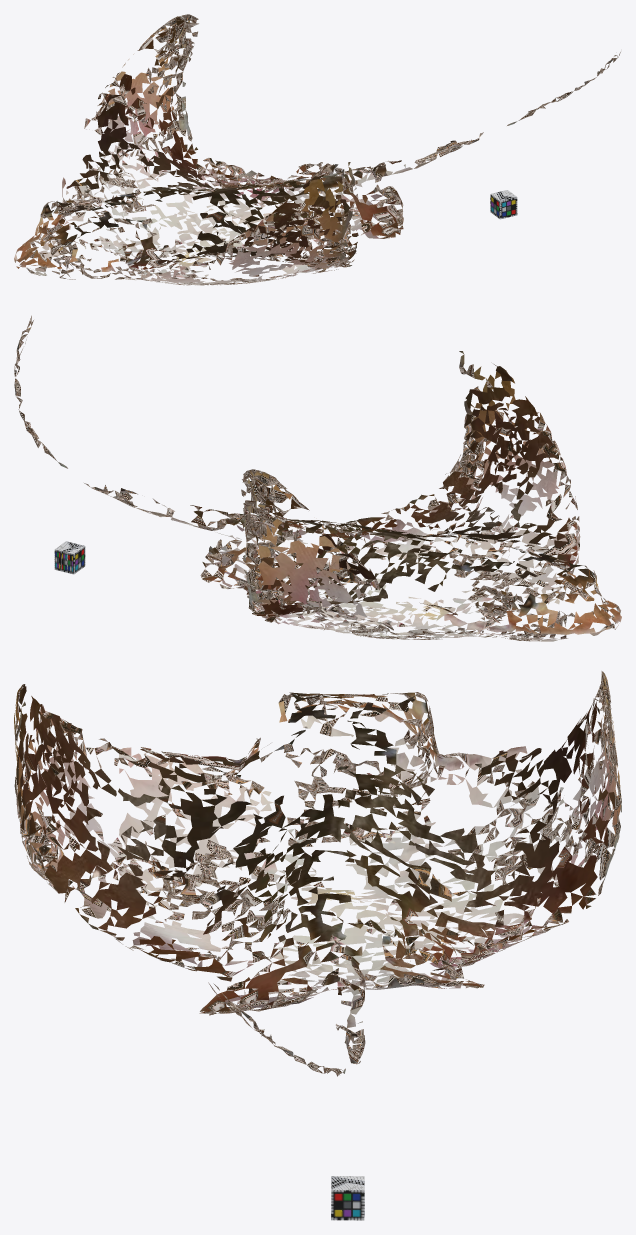
Rendered from ray.glb.
3 renders of one model, top to bottom at view 1: azimuth 30°, elevation 25°; view 2: azimuth 150°, elevation 25°; view 3: azimuth 270°, elevation 25°, orthographic. The views are drawn at different scales.
Parts seen in each view (by area): view 1: Object_6, Object_12, Object_4; view 2: Object_6, Object_12, Object_4; view 3: Object_6, Object_12, Object_4.
Boxes of the visible parts, x1,y1,x2,y2 form: Object_6: (66,53,388,285); Object_12: (14,14,620,285); Object_4: (490,190,517,219); Object_6: (207,364,581,639); Object_12: (14,315,621,641); Object_4: (54,541,85,574); Object_6: (14,684,620,1011); Object_12: (14,671,621,1076); Object_4: (331,1176,364,1220).
Bounding box in the file's own units: 14.06 × 4.81 × 7.86.
3 materials, 3 textured.
